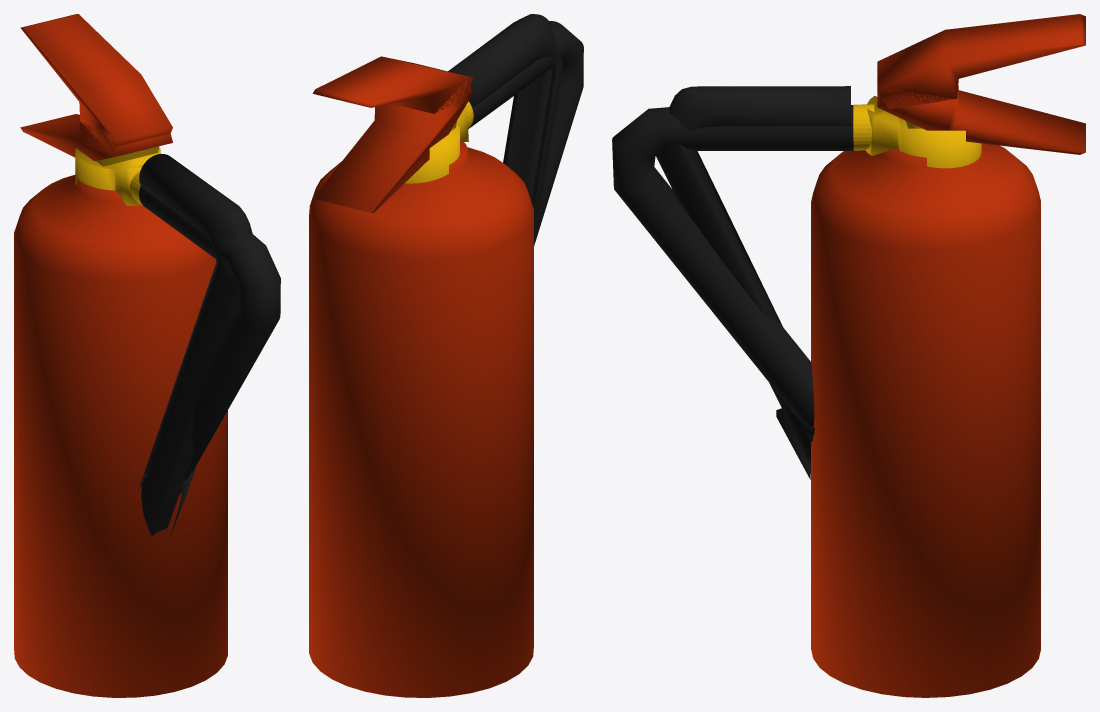
The model's file is Extintor.fbx.
3 views of the same model, side by side, from view 1: azimuth 30°, elevation 25°; view 2: azimuth 150°, elevation 25°; view 3: azimuth 270°, elevation 25° (orthographic). The views are drawn at different scales.
Visible parts, largest first — view 1: Recipiente, Maguera, Manilla, Manguera1, boquilla, Unionmanilla; view 2: Recipiente, Manilla, Maguera, Manguera1, boquilla; view 3: Recipiente, Manguera1, Manilla, Maguera, boquilla, boquilla2.
Boxes of the visible parts, x1=… form: Recipiente: x1=14, y1=175, x2=227, y2=697; Maguera: x1=139, y1=153, x2=252, y2=536; Manilla: x1=20, y1=14, x2=172, y2=161; Manguera1: x1=139, y1=186, x2=280, y2=493; boquilla: x1=75, y1=147, x2=160, y2=205; Unionmanilla: x1=96, y1=146, x2=159, y2=166; Recipiente: x1=309, y1=140, x2=533, y2=697; Manilla: x1=312, y1=56, x2=472, y2=212; Maguera: x1=448, y1=14, x2=562, y2=244; Manguera1: x1=468, y1=21, x2=583, y2=245; boquilla: x1=405, y1=104, x2=468, y2=183; Recipiente: x1=811, y1=143, x2=1040, y2=697; Manguera1: x1=612, y1=105, x2=853, y2=441; Manilla: x1=877, y1=14, x2=1085, y2=154; Maguera: x1=655, y1=86, x2=850, y2=479; boquilla: x1=866, y1=96, x2=981, y2=168; boquilla2: x1=853, y1=104, x2=874, y2=150.
Size of the model in its own units: 0.2 by 0.5964 by 0.412.
